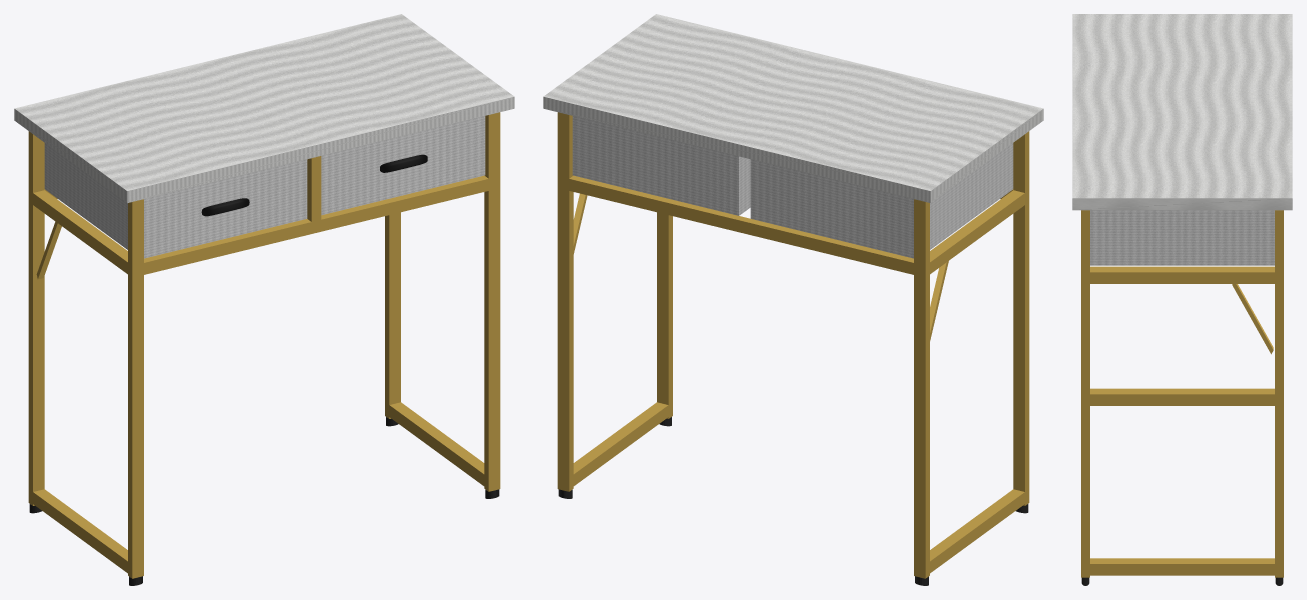
The picture shows the model from 3 angles, left to right: view 1: azimuth 30°, elevation 25°; view 2: azimuth 150°, elevation 25°; view 3: azimuth 270°, elevation 25°; orthographic projection. The views are drawn at different scales.
Visible parts, largest first — view 1: 1 tabletop, 19 left_drawer, 20 right_drawer, 3 front_right_leg, 2 front_left_leg, 12 front_upper_bar, 4 back_left_leg, 5 back_right_leg, 11 right_bottom_bar, 10 left_bottom_bar, 14 left_upper_bar, 16 center_divider; view 2: 1 tabletop, 19 left_drawer, 20 right_drawer, 5 back_right_leg, 4 back_left_leg, 2 front_left_leg, 13 back_upper_bar, 3 front_right_leg, 11 right_bottom_bar, 10 left_bottom_bar, 14 left_upper_bar; view 3: 1 tabletop, 20 right_drawer, 10 left_bottom_bar, 11 right_bottom_bar, 15 right_upper_bar, 3 front_right_leg, 5 back_right_leg, 18 right_diagonal_brace.
Part boxes in pixels (x1,y1,x2,y2): 1 tabletop: [14, 14, 514, 202]; 19 left_drawer: [44, 143, 307, 258]; 20 right_drawer: [321, 116, 485, 215]; 3 front_right_leg: [484, 112, 500, 491]; 2 front_left_leg: [128, 199, 143, 578]; 12 front_upper_bar: [144, 175, 488, 274]; 4 back_left_leg: [28, 131, 44, 505]; 5 back_right_leg: [385, 212, 400, 418]; 11 right_bottom_bar: [389, 402, 484, 485]; 10 left_bottom_bar: [33, 489, 127, 573]; 14 left_upper_bar: [33, 190, 127, 274]; 16 center_divider: [307, 156, 321, 221]; 1 tabletop: [543, 14, 1043, 202]; 19 left_drawer: [750, 143, 1013, 258]; 20 right_drawer: [572, 116, 750, 215]; 5 back_right_leg: [557, 112, 573, 491]; 4 back_left_leg: [914, 199, 929, 578]; 2 front_left_leg: [1013, 131, 1029, 505]; 13 back_upper_bar: [569, 175, 913, 274]; 3 front_right_leg: [657, 212, 672, 418]; 11 right_bottom_bar: [573, 402, 668, 485]; 10 left_bottom_bar: [930, 489, 1024, 573]; 14 left_upper_bar: [930, 190, 1024, 274]; 1 tabletop: [1072, 14, 1292, 210]; 20 right_drawer: [1090, 210, 1274, 265]; 10 left_bottom_bar: [1090, 388, 1274, 405]; 11 right_bottom_bar: [1090, 558, 1274, 575]; 15 right_upper_bar: [1090, 266, 1274, 283]; 3 front_right_leg: [1081, 210, 1089, 577]; 5 back_right_leg: [1275, 210, 1283, 577]; 18 right_diagonal_brace: [1232, 284, 1273, 354].
Bounding box in the file's own units: 1.01 × 1 × 0.51.
Materials: 5 (2 with a texture image).
